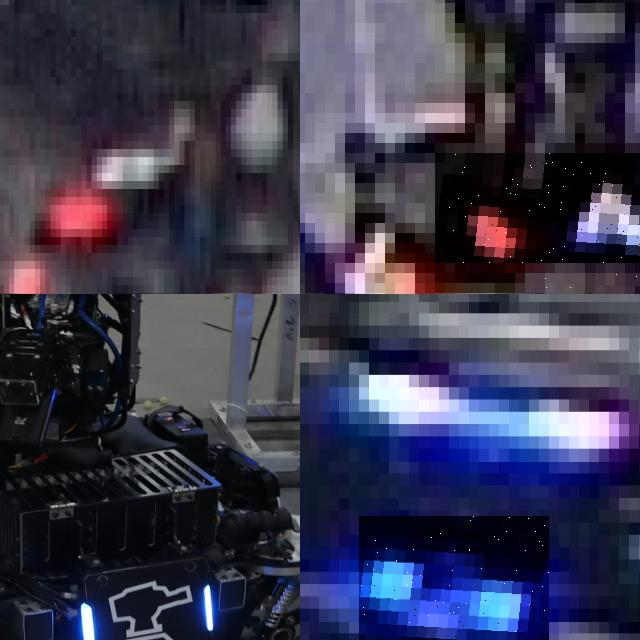B2: (359, 516, 549, 640)
Bs: (76, 570, 220, 640)
R4: (435, 153, 640, 263)
